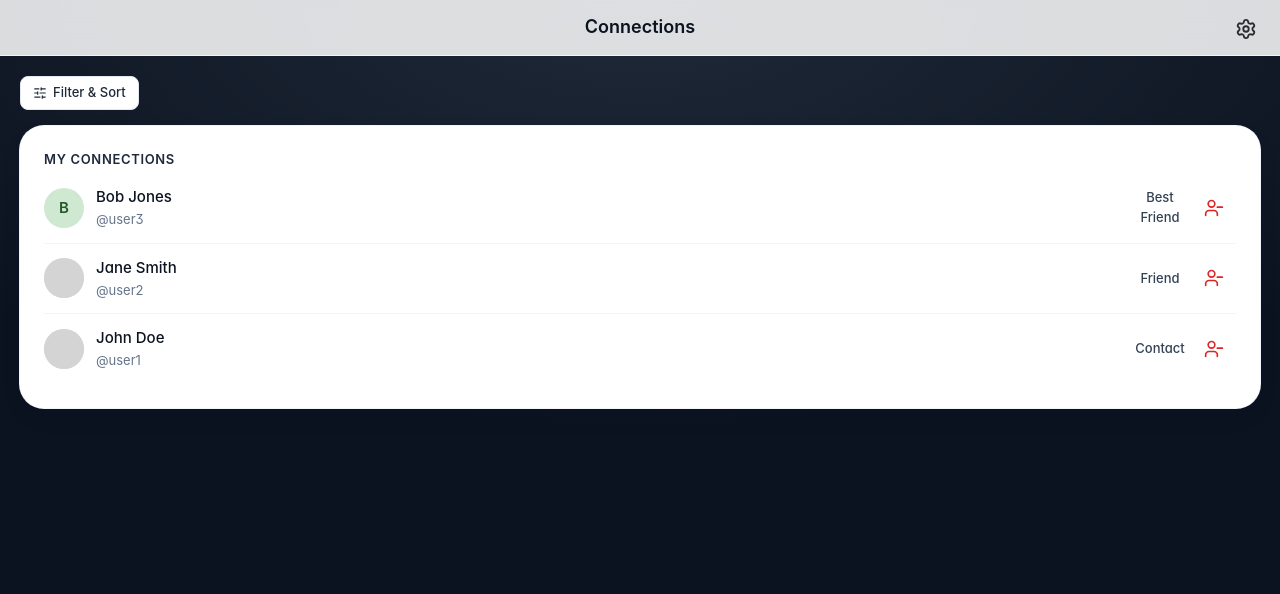
Test: ConnectionsView › filters connections by username
Expected: the text "John Doe" is shown, 96,328 -> 164,347
Click the button "Filter & Sort" at (79, 93), box 20,76 -> 139,110
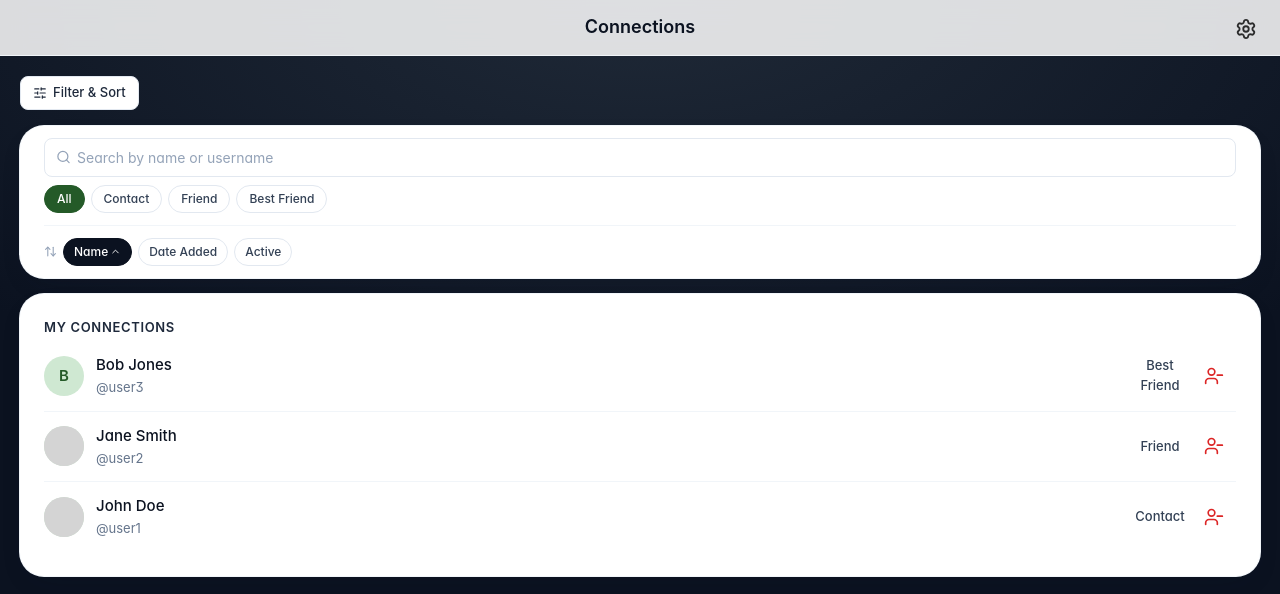
Type "user2" into the search field with placeholder "Search by name or username" at (640, 157), box 44,138 -> 1236,176
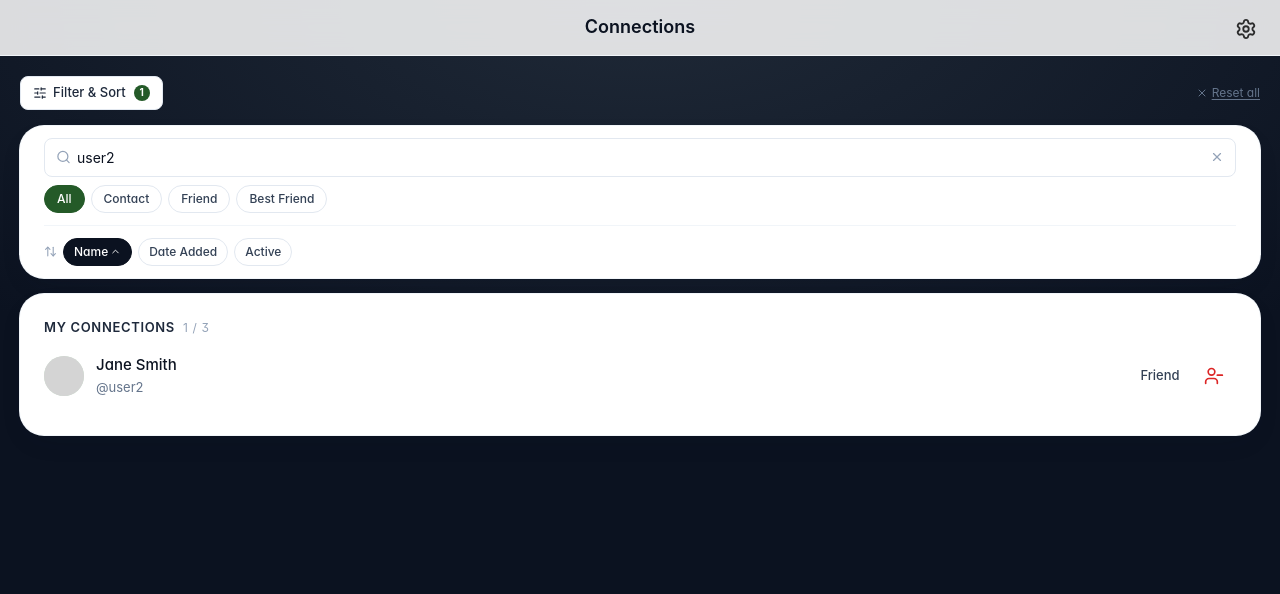
Expected: the text "Jane Smith" is shown, 96,355 -> 177,374
Expected: the link "John Doe" is gone
Expected: the link "Bob Jones" is gone
